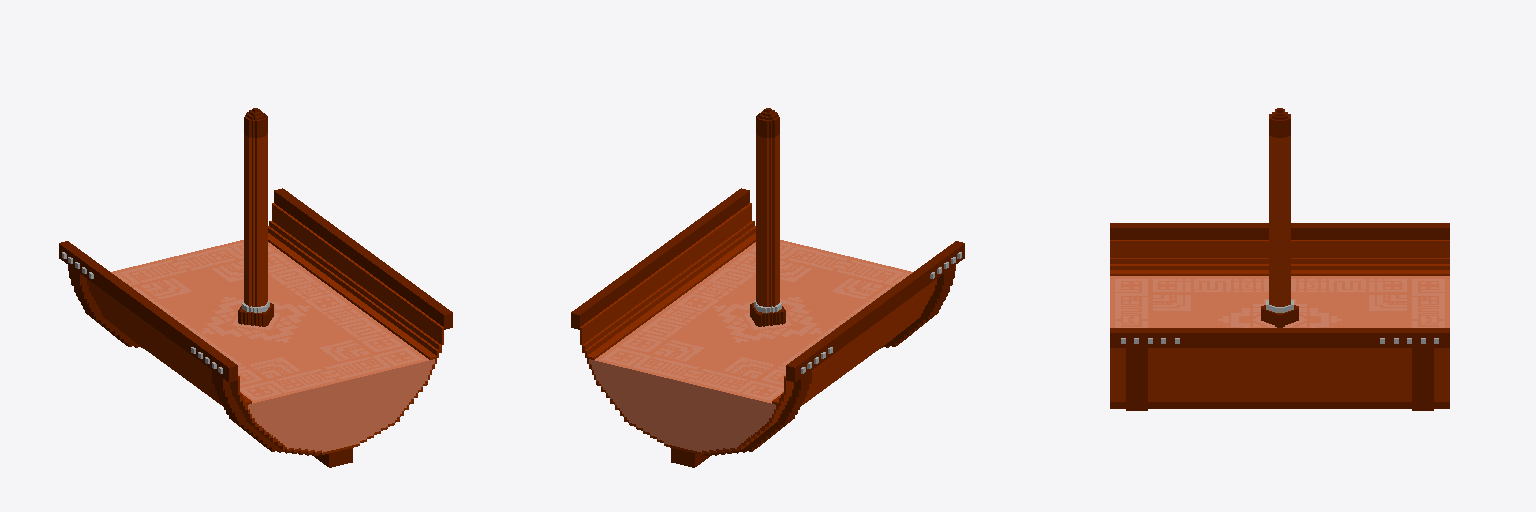
3 renders of one model, left to right at view 1: azimuth 30°, elevation 25°; view 2: azimuth 150°, elevation 25°; view 3: azimuth 270°, elevation 25°, orthographic.
Bounding box in the file's own units: 98 × 120 × 126.
Materials: 1 (1 with a texture image).